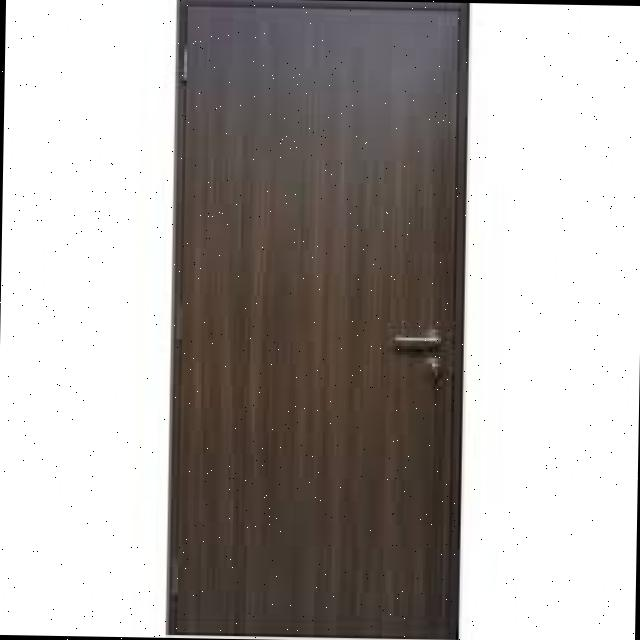Door: (159, 0, 479, 640)
